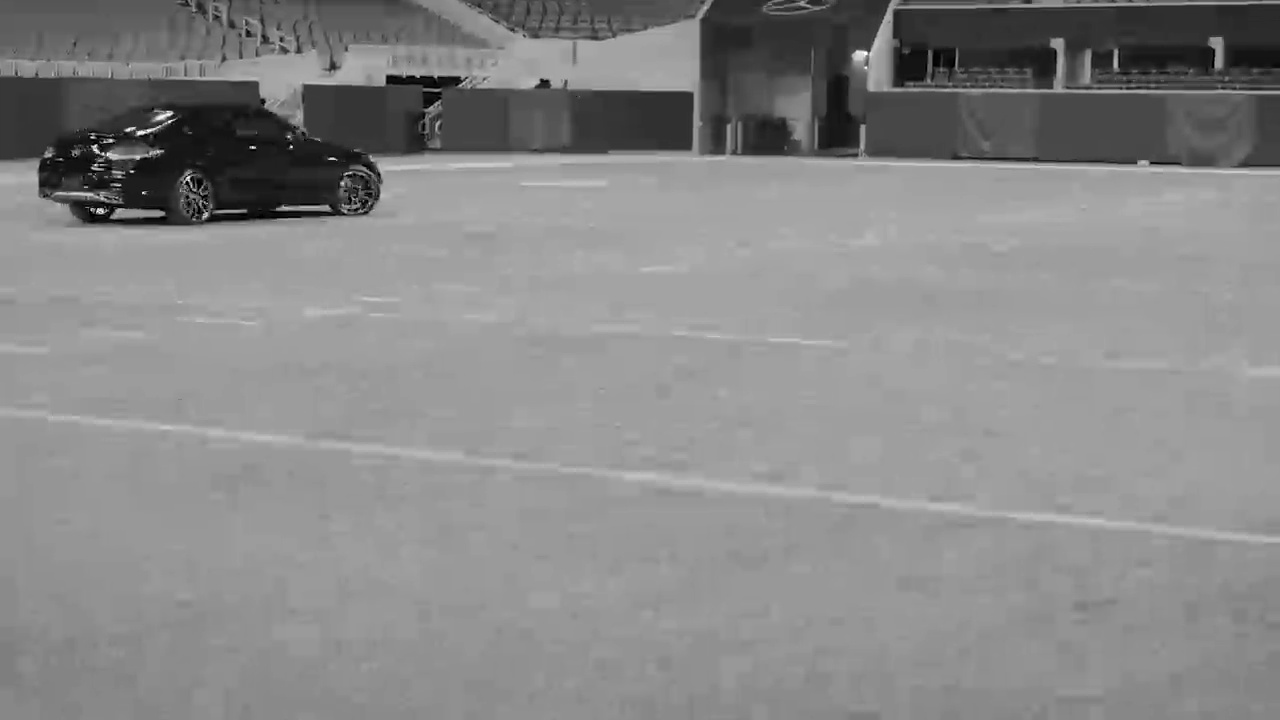car: (38, 102, 387, 226)
